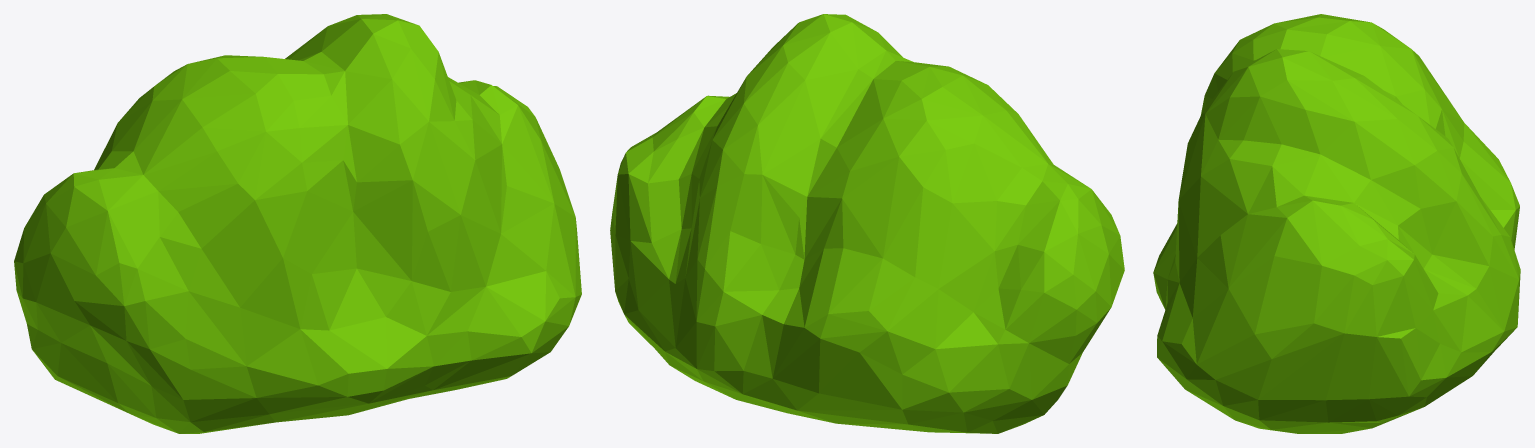
Rendered from Bush_02.fbx.
3 views of the same model, side by side, from view 1: azimuth 30°, elevation 25°; view 2: azimuth 150°, elevation 25°; view 3: azimuth 270°, elevation 25° (orthographic). The views are drawn at different scales.
Parts seen in each view (by area): view 1: Bush_02; view 2: Bush_02; view 3: Bush_02.
Boxes of the visible parts, <box> form: Bush_02: <box>14,14,581,433</box>; Bush_02: <box>610,14,1124,433</box>; Bush_02: <box>1153,14,1520,433</box>.
Size of the model in its own units: 130 by 89.49 by 87.41.
